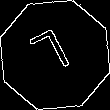L_SE: (30, 26, 80, 84)
